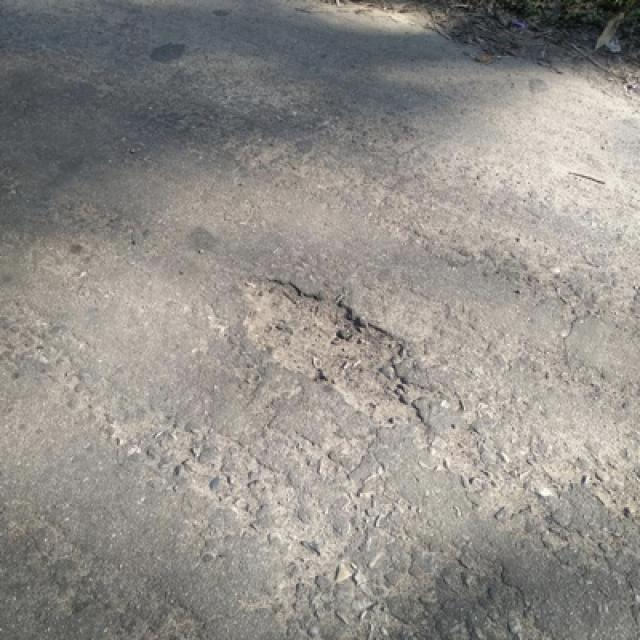jalan_berlubang: (225, 269, 426, 422)
